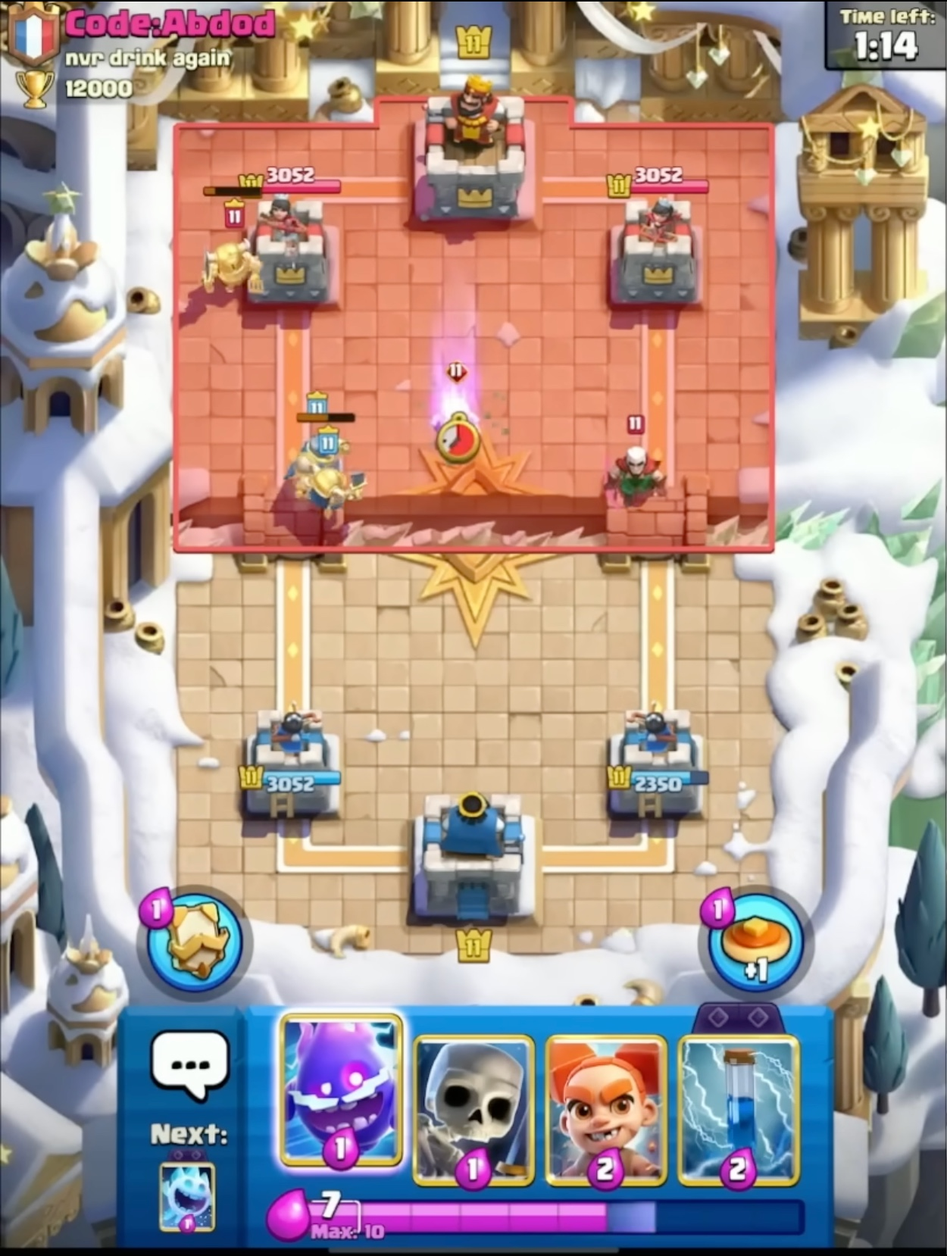evo-ice-spirit: (423, 360, 489, 457)
hero-mini-pekka: (195, 176, 266, 309)
magic-archer: (593, 413, 677, 513)
